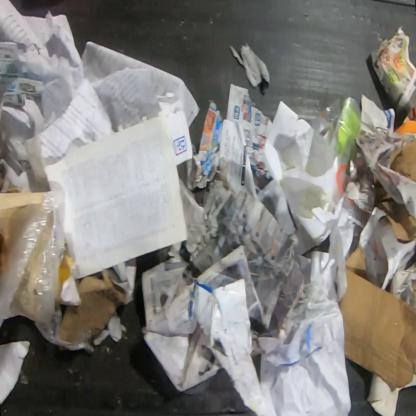cardboard: (338, 246, 415, 393), (60, 269, 128, 344), (369, 165, 415, 246), (389, 136, 415, 248)
rigid_plastic: (308, 97, 366, 203)
soft_plastic: (0, 191, 95, 353)
